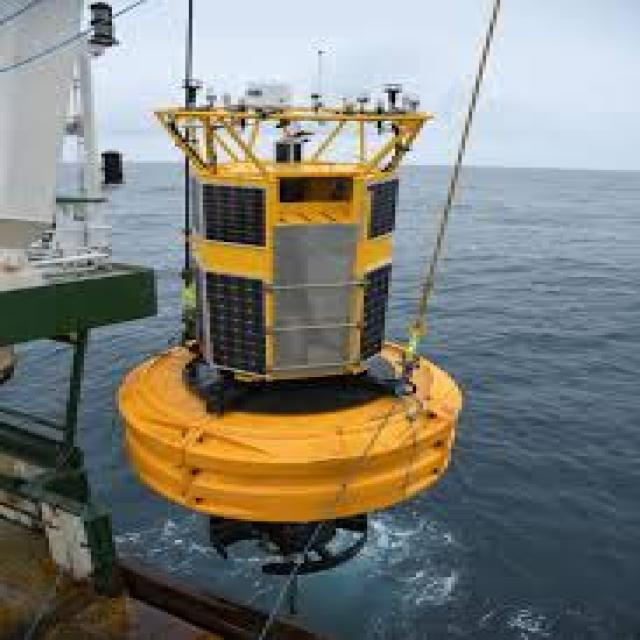marque: (114, 53, 481, 581)
